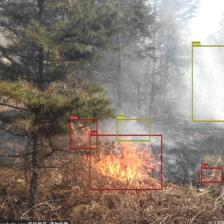fire: (90, 135, 162, 190), (70, 119, 97, 149), (201, 168, 222, 182)
smoke: (191, 46, 224, 122), (116, 119, 151, 142)
